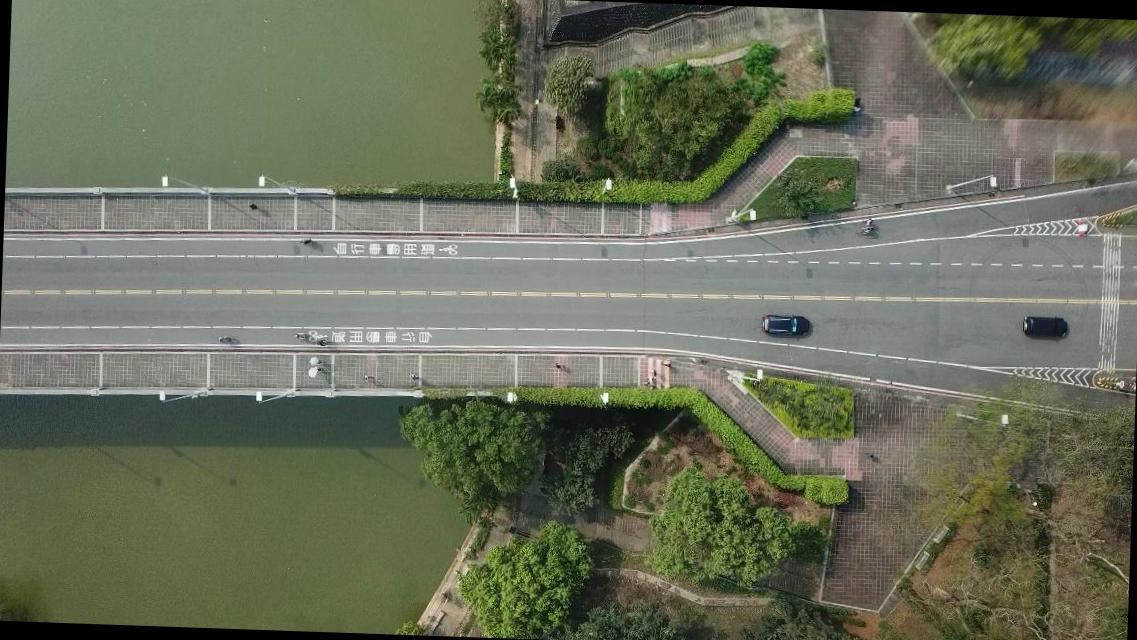vehicle: (762, 314, 810, 336), (1022, 316, 1068, 338)
